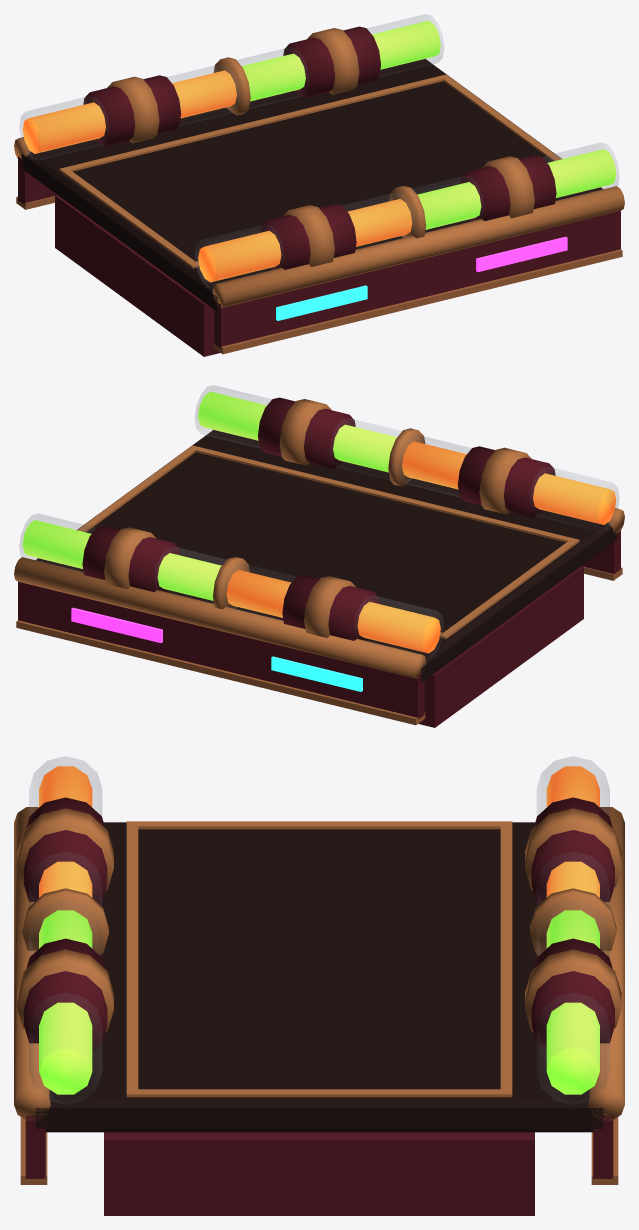
The model's file is Deck_S.glb.
3 views of the same model, one above another, from view 1: azimuth 30°, elevation 25°; view 2: azimuth 150°, elevation 25°; view 3: azimuth 270°, elevation 25° (orthographic). The views are drawn at different scales.
Visible parts, largest first — view 1: CP_Deck_S; view 2: CP_Deck_S; view 3: CP_Deck_S.
Boxes of the visible parts, box(x1,y1,x2,y2) form: CP_Deck_S: box(14, 14, 624, 356); CP_Deck_S: box(14, 385, 624, 727); CP_Deck_S: box(14, 756, 624, 1215).
Size of the model in its own units: 4 by 1.29 by 3.66.
